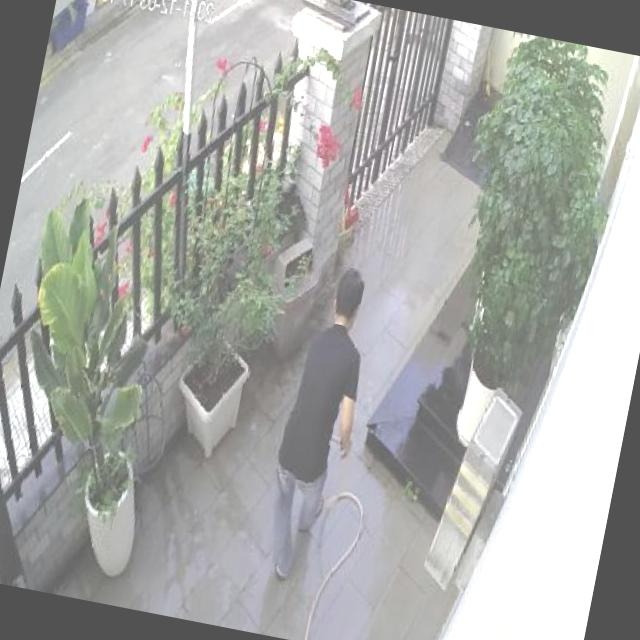Person: (253, 261, 387, 588)
